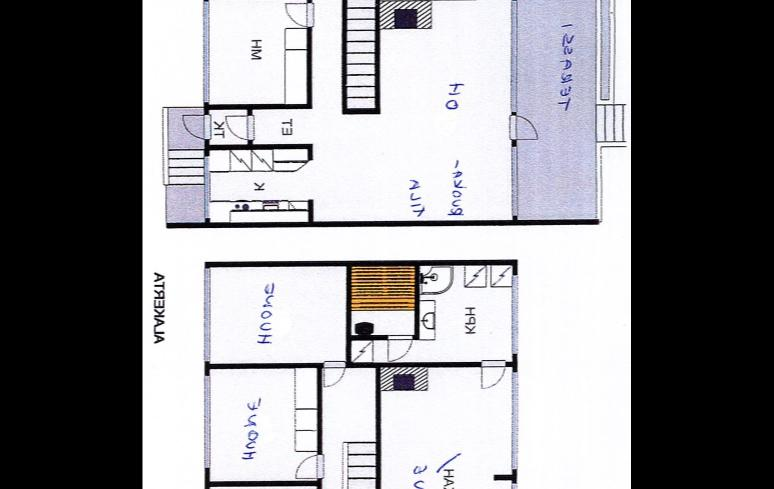door: (507, 111, 542, 142), (180, 110, 215, 140), (477, 357, 508, 390), (222, 112, 258, 140), (280, 0, 316, 26), (294, 452, 326, 480), (386, 330, 413, 361), (324, 360, 347, 389)
window: (200, 364, 214, 473), (507, 0, 520, 112), (200, 0, 212, 105), (201, 264, 213, 362), (508, 268, 520, 358), (510, 366, 520, 473), (509, 140, 522, 217), (200, 150, 212, 218)
